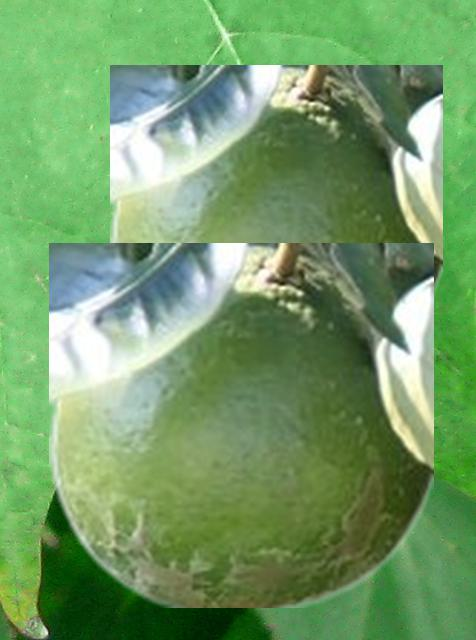dalandan: (49, 243, 432, 606), (110, 65, 441, 301)
